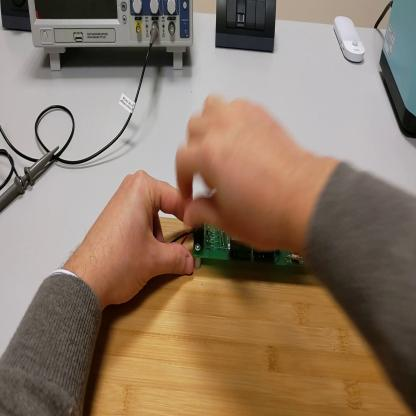hand: (175, 93, 304, 248), (83, 168, 196, 307)
high voltage board: (171, 228, 295, 271)
oscilloscope: (27, 1, 194, 70)
oscilloscope probe tip: (1, 145, 60, 213)
socket: (2, 2, 33, 34)
welder station: (381, 2, 416, 140)
working area: (86, 205, 415, 416)
